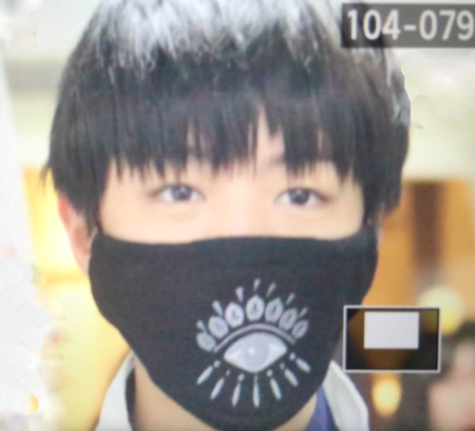face_mask: (98, 82, 369, 426)
